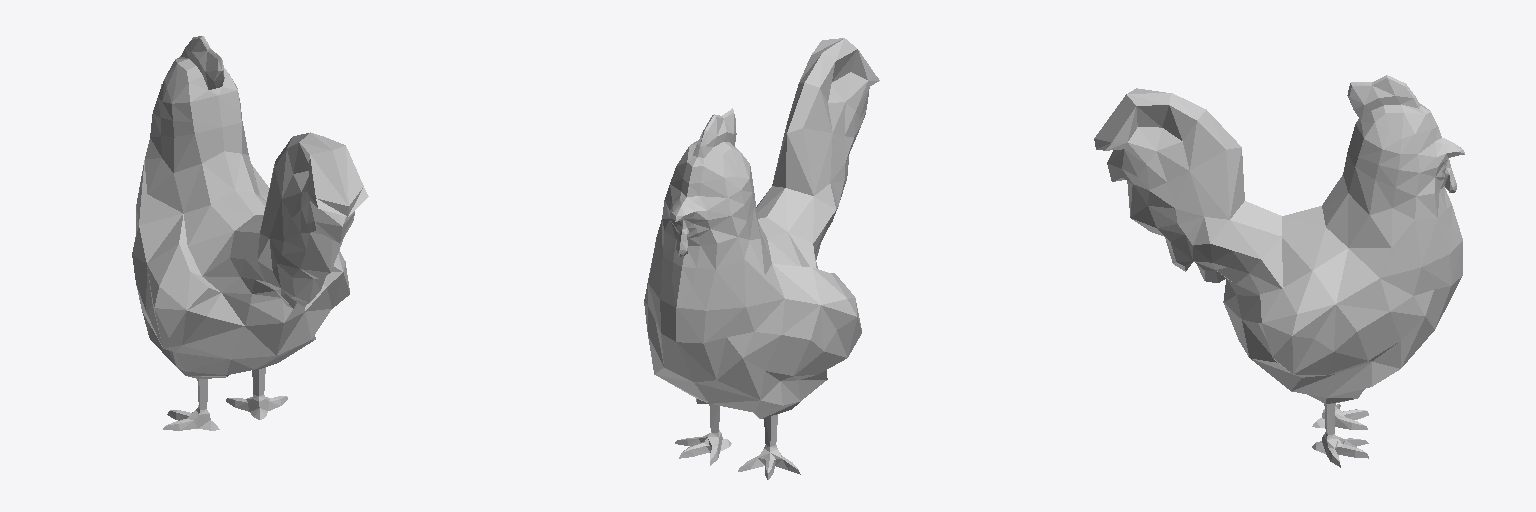
File: rooster.obj
3 renders of one model, left to right at view 1: azimuth 30°, elevation 25°; view 2: azimuth 150°, elevation 25°; view 3: azimuth 270°, elevation 25°, orthographic.
Parts seen in each view (by area): view 1: Line001_Material_#26_0; view 2: Line001_Material_#26_0; view 3: Line001_Material_#26_0.
Part boxes in pixels (left/top/right/bottom): Line001_Material_#26_0: left=132, top=36, right=368, bottom=430; Line001_Material_#26_0: left=644, top=38, right=879, bottom=479; Line001_Material_#26_0: left=1094, top=75, right=1464, bottom=467.
Size of the model in its own units: 0.5373 by 0.971 by 0.9036.